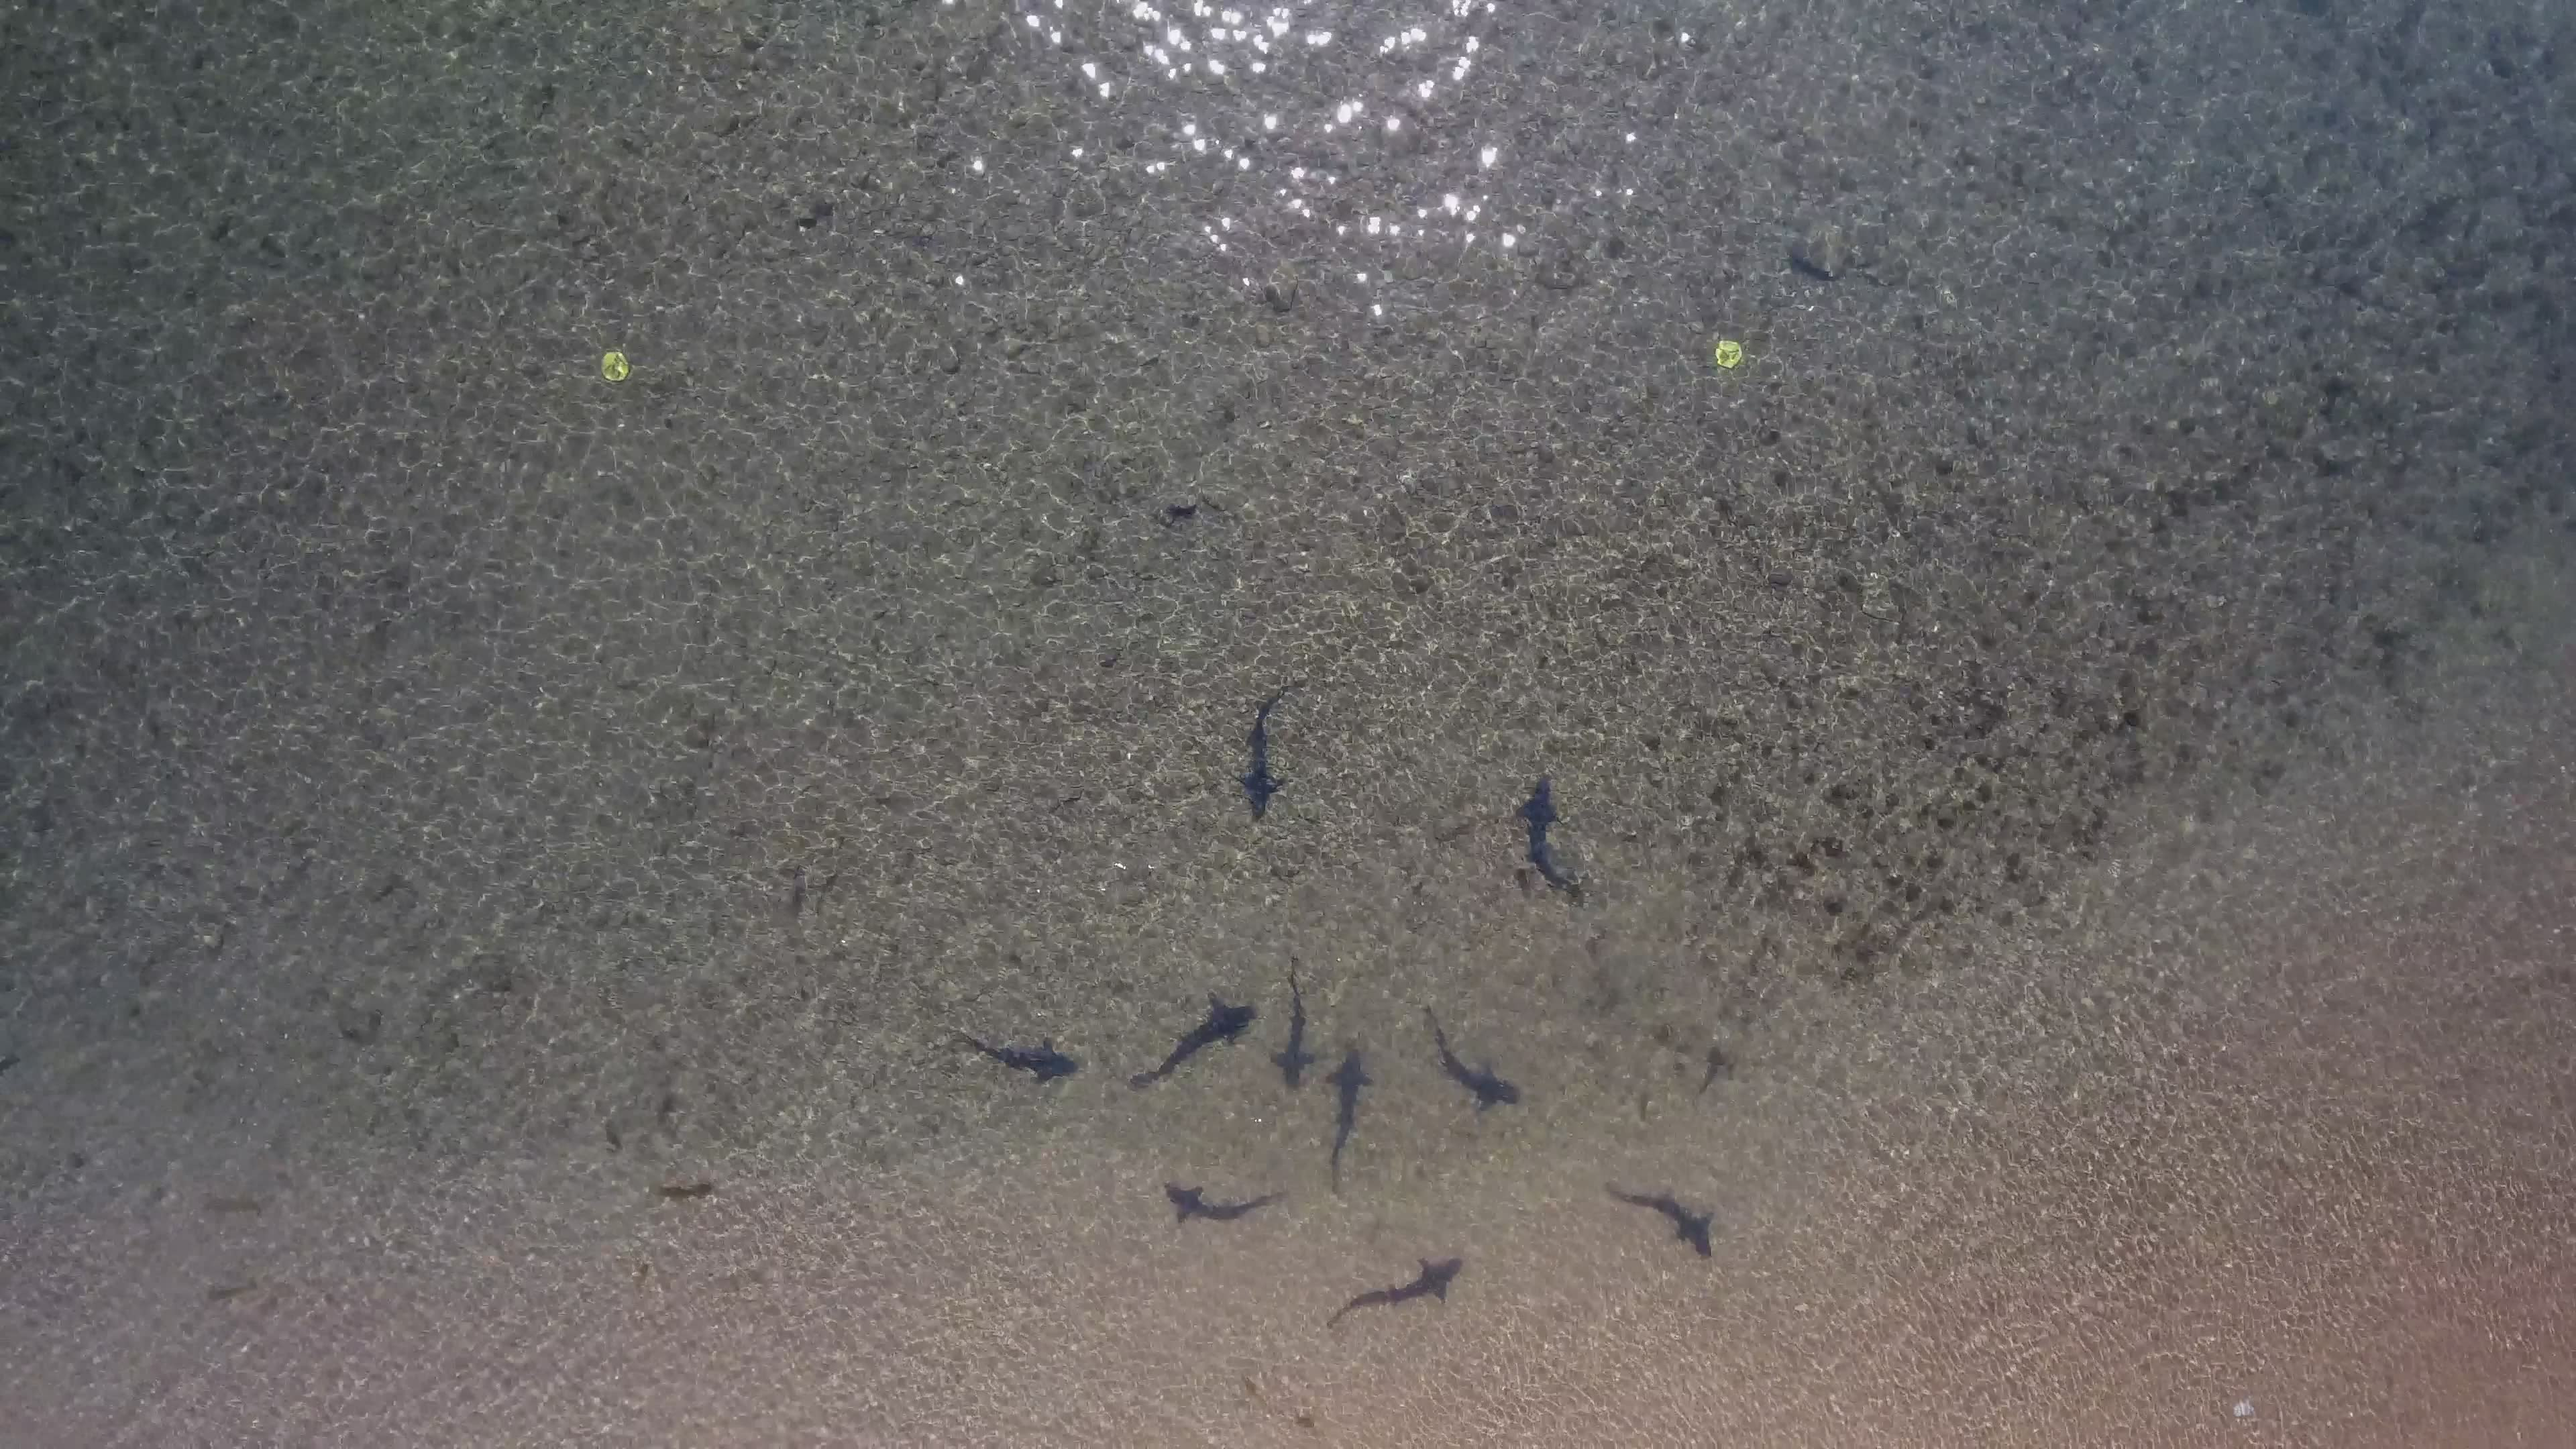shark: (1338, 842, 1582, 978)
